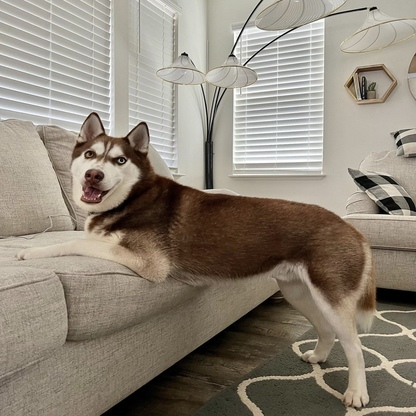husky: (65, 110, 381, 411)
